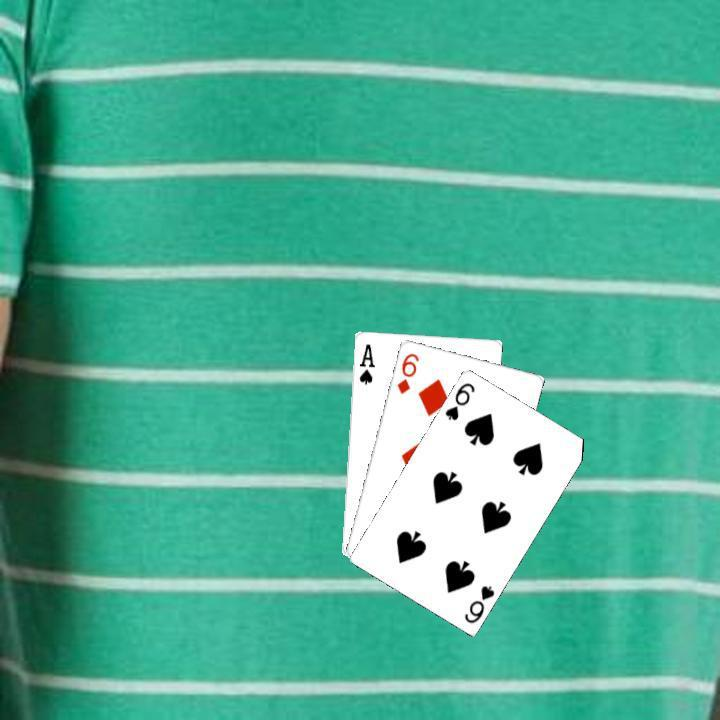6: (460, 580, 497, 625), (441, 378, 477, 422), (392, 348, 421, 396)
A: (354, 339, 377, 386)
